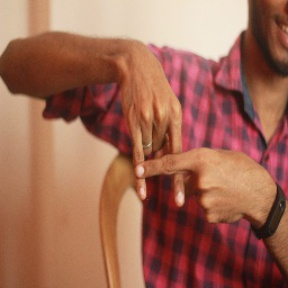H: (120, 108, 215, 214)
